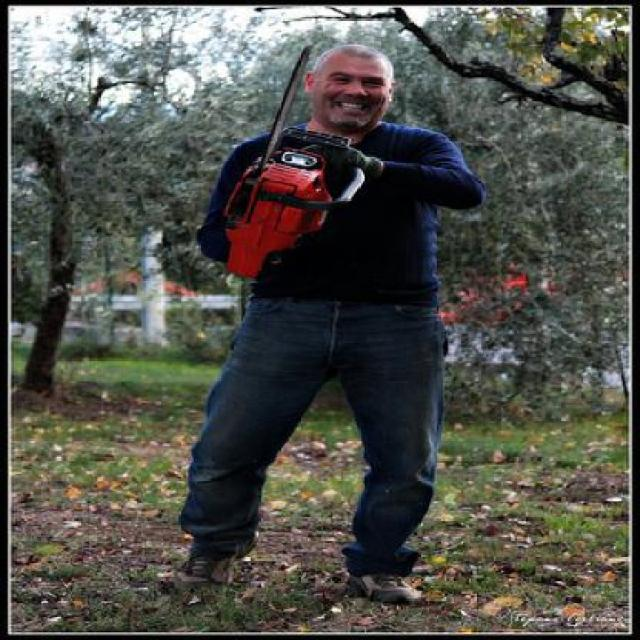Chainsaw: (195, 40, 378, 282)
